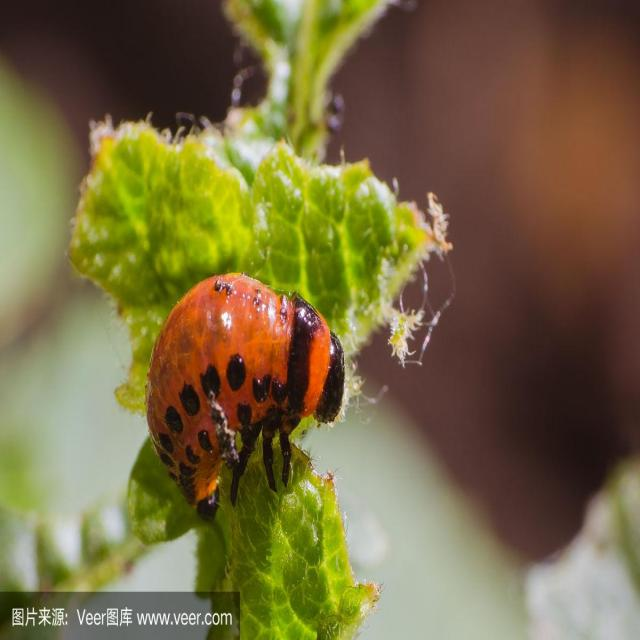ShuCaiHuaBanChong-Larva-: (114, 271, 338, 548)
